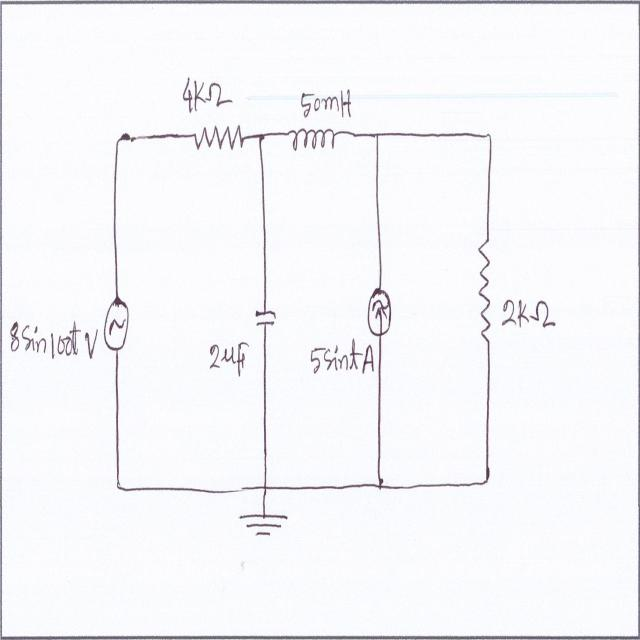ac_current: (103, 294, 129, 354)
capacitor: (254, 304, 278, 335)
current_source: (366, 284, 394, 339)
ground: (237, 507, 291, 545)
inductor: (286, 123, 338, 159)
resistor: (194, 120, 246, 158), (476, 235, 494, 344)
